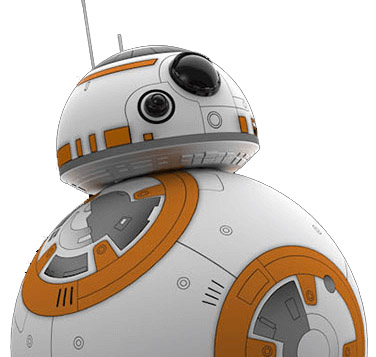bb8: (10, 45, 369, 357)
